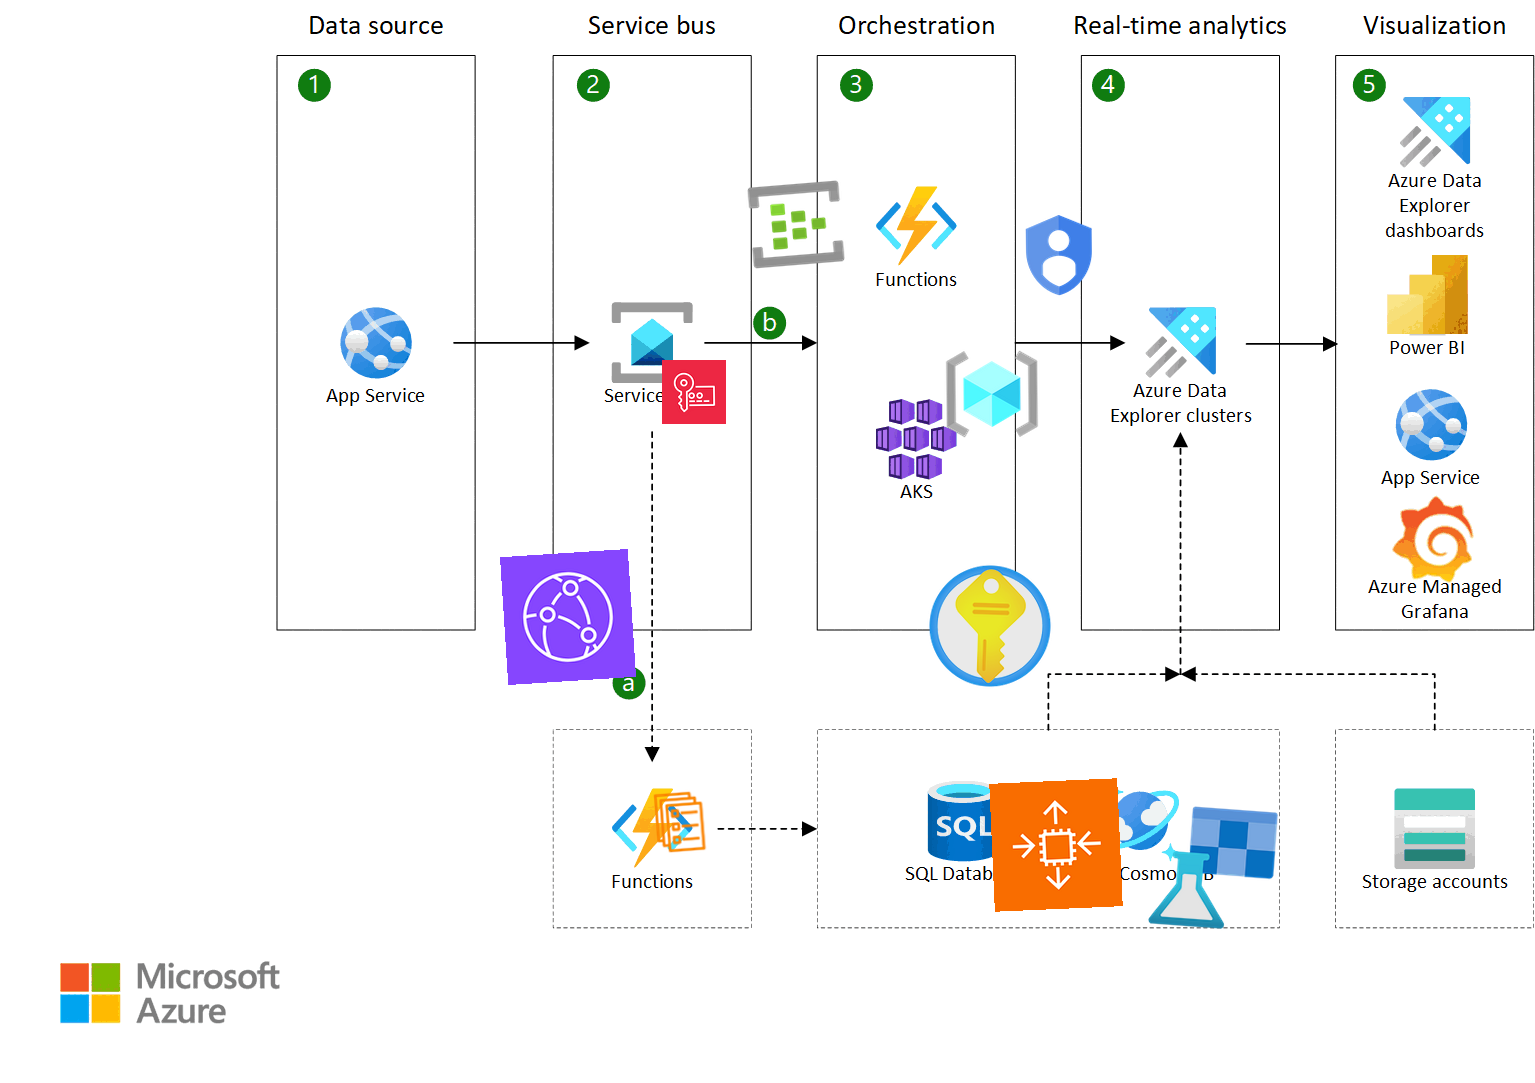aws_amazon_cloudfront: (499, 549, 637, 686)
aws_amazon_ec2_auto_scaling: (989, 778, 1123, 912)
aws_elastic_container_service_service: (644, 786, 715, 857)
aws_key_management_service: (661, 359, 726, 425)
azure_event_hubs: (744, 172, 848, 275)
azure_key_vaults: (923, 559, 1057, 693)
azure_machine_learning_studio_workspaces: (1144, 799, 1282, 936)
azure_resource_groups: (943, 345, 1041, 443)
gcp_identity_and_access_management: (1010, 206, 1108, 304)
